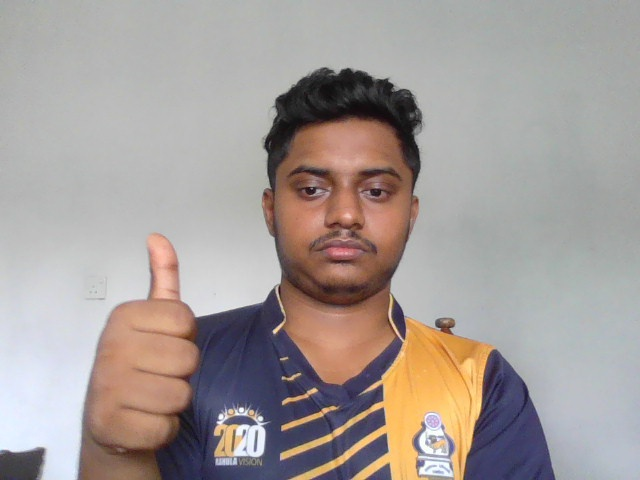Agree: (82, 231, 204, 459)
